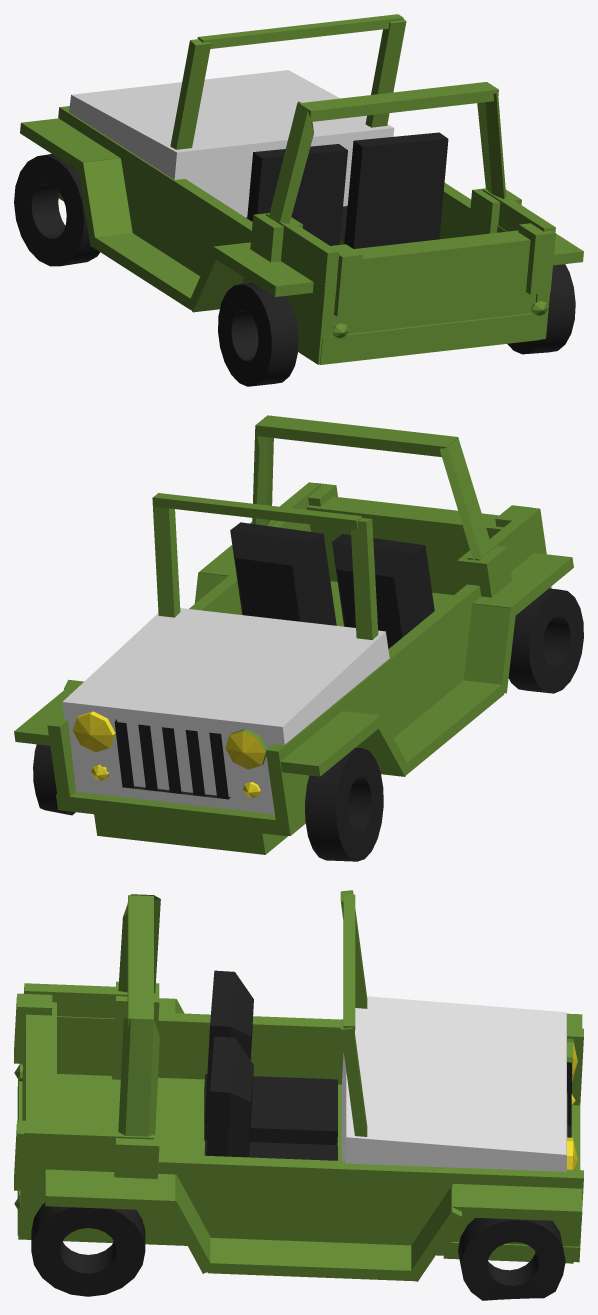
File: jeep.fbx
3 views of the same model, one above another, from view 1: azimuth 30°, elevation 25°; view 2: azimuth 150°, elevation 25°; view 3: azimuth 270°, elevation 25° (orthographic). The views are drawn at different scales.
Visible parts, largest first — view 1: jeep; view 2: jeep; view 3: jeep.
Boxes of the visible parts, x1,y1,x2,y2 form: jeep: (14, 14, 583, 386); jeep: (14, 415, 583, 861); jeep: (14, 890, 583, 1300).
Size of the model in its own units: 258 by 209 by 368.
